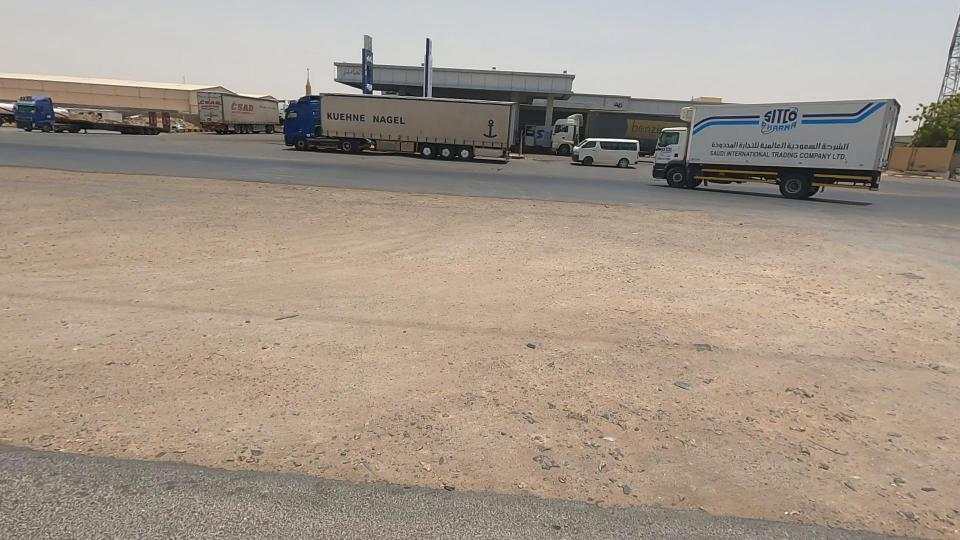CONSTRUCTION_ROAD: (0, 51, 626, 540), (348, 76, 960, 540)
